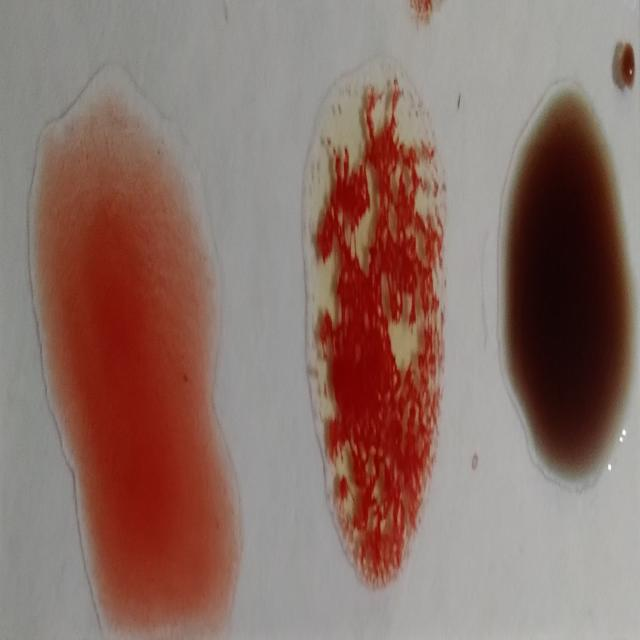B: (299, 62, 447, 587)
D: (32, 93, 230, 636)
